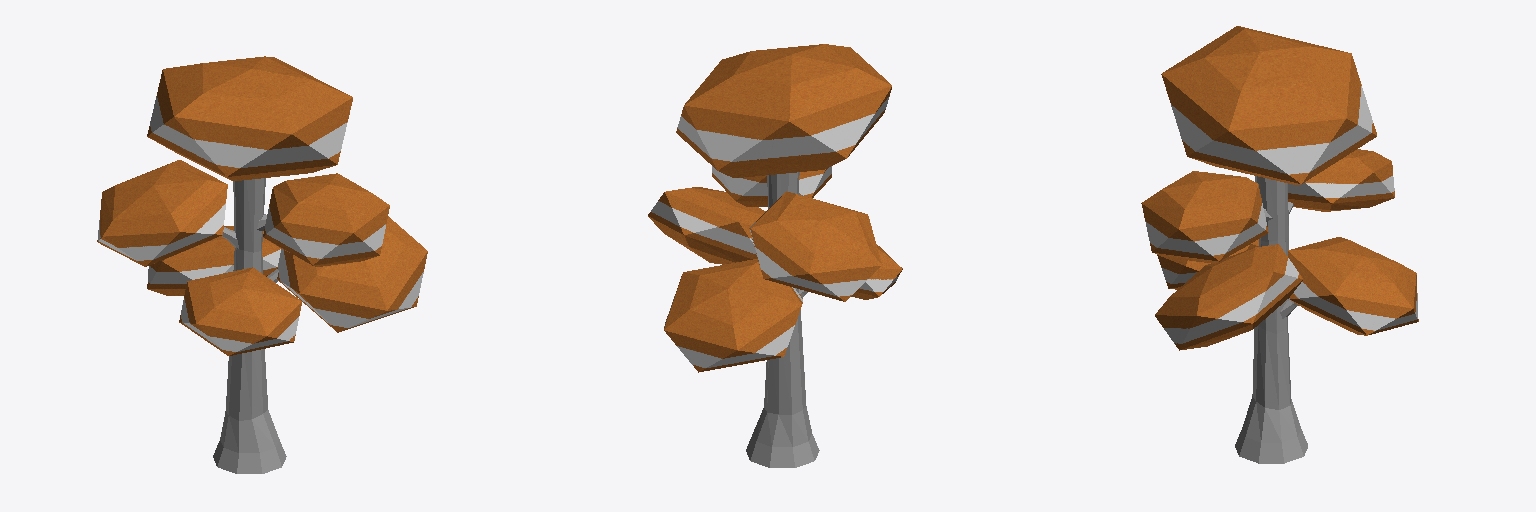
The picture shows the model from 3 angles: view 1: azimuth 30°, elevation 25°; view 2: azimuth 150°, elevation 25°; view 3: azimuth 270°, elevation 25°; orthographic projection.
Visible parts, largest first — view 1: wood.001_Cylinder.001, wood.000_Cylinder.000; view 2: wood.001_Cylinder.001, wood.000_Cylinder.000; view 3: wood.001_Cylinder.001, wood.000_Cylinder.000.
Part boxes in pixels (bbox=[...]): wood.001_Cylinder.001: bbox=[97, 56, 427, 355]; wood.000_Cylinder.000: bbox=[213, 178, 286, 473]; wood.001_Cylinder.001: bbox=[648, 44, 902, 372]; wood.000_Cylinder.000: bbox=[746, 172, 819, 467]; wood.001_Cylinder.001: bbox=[1141, 26, 1418, 350]; wood.000_Cylinder.000: bbox=[1235, 176, 1307, 463].
Bounding box in the file's own units: 2.01 × 2.84 × 1.8.
Materials: 2 (1 with a texture image).